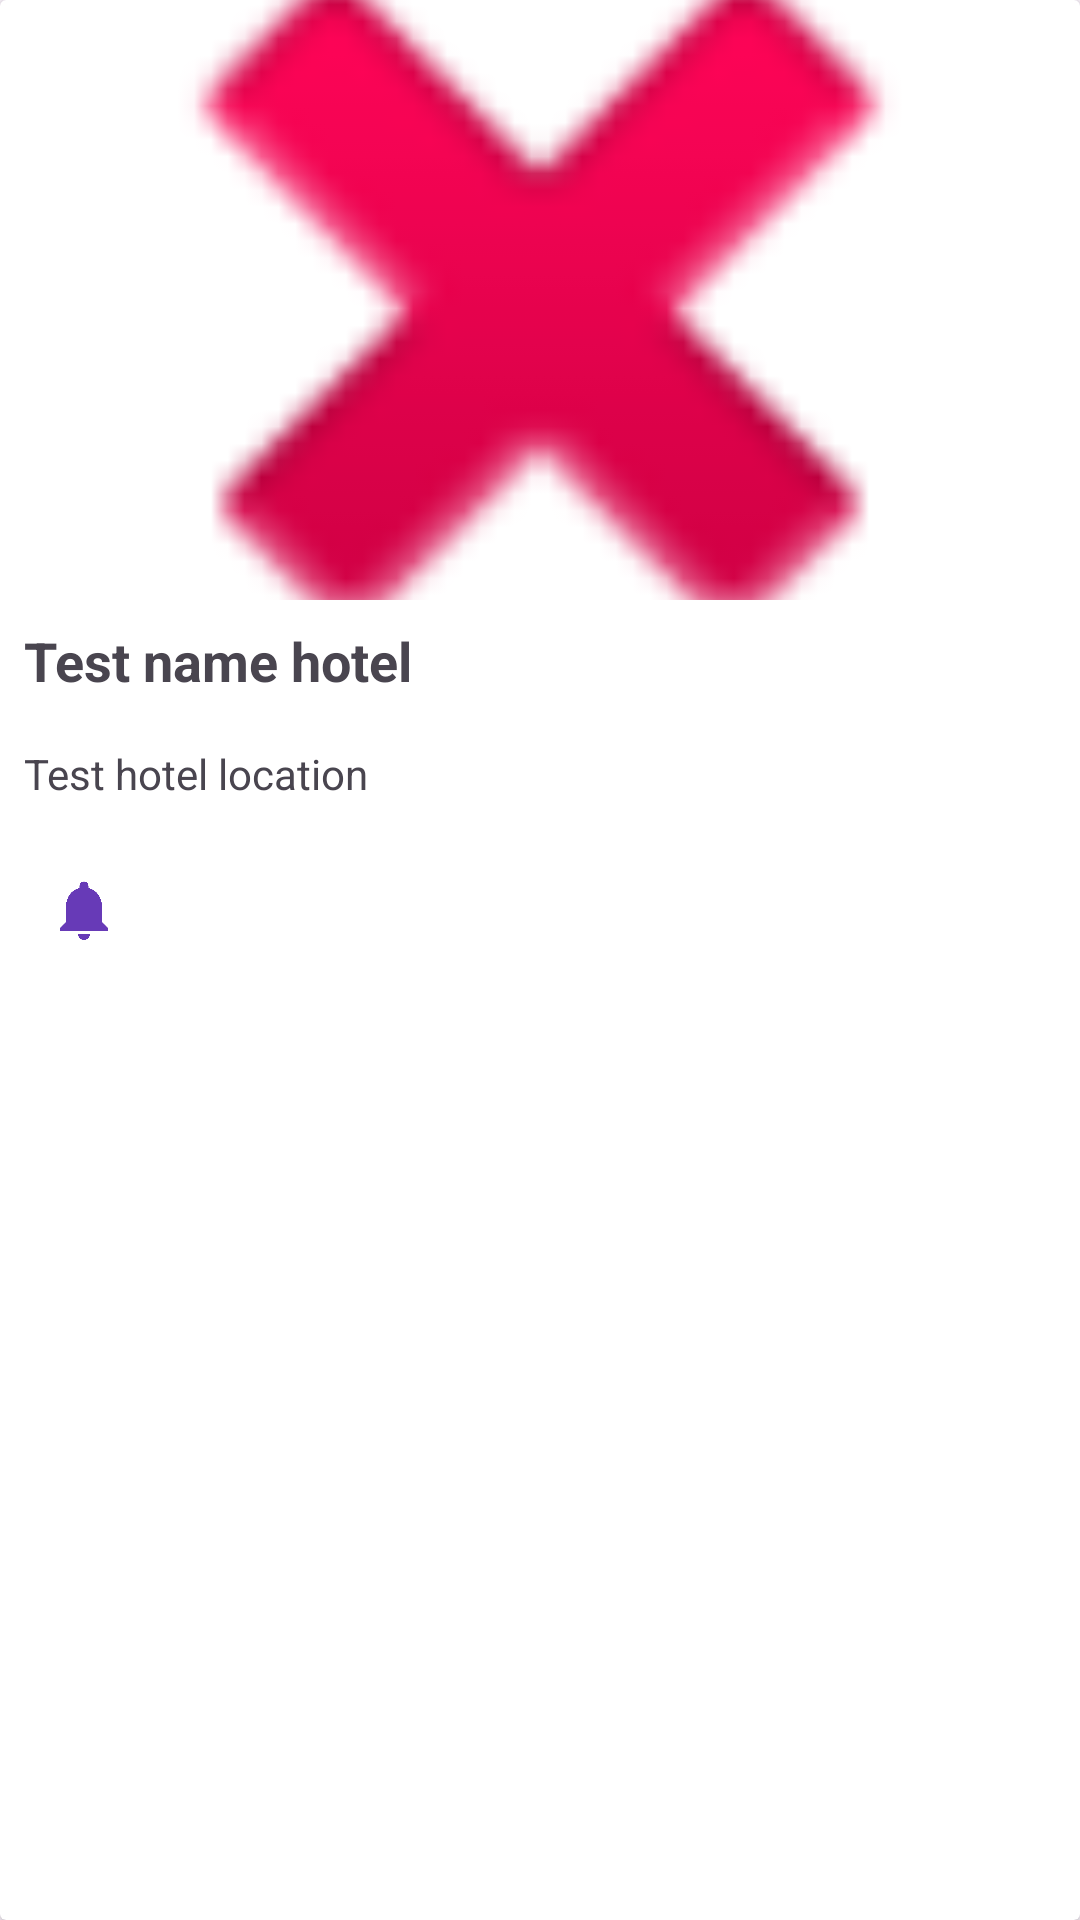

Named icons in this screenshot (1080px×1920px) and their centers, [x,y]:
notifications: [84,910]
